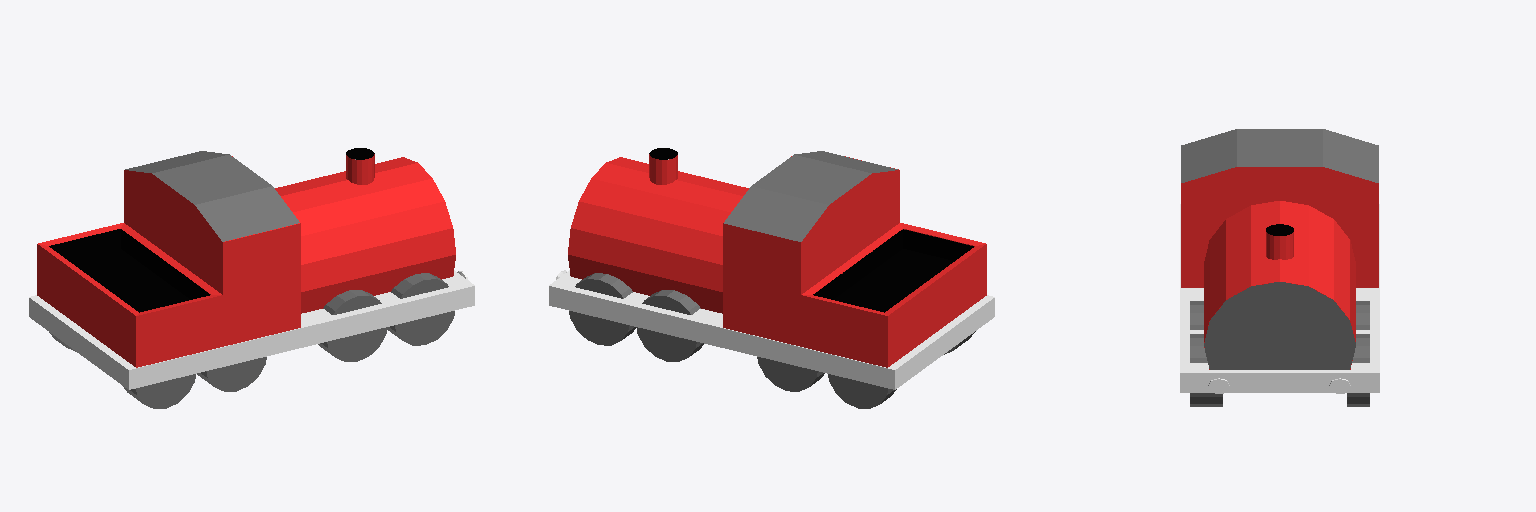
The picture shows the model from 3 angles: view 1: azimuth 30°, elevation 25°; view 2: azimuth 150°, elevation 25°; view 3: azimuth 270°, elevation 25°; orthographic projection.
Parts seen in each view (by area): view 1: cab, boiler, base, wheels, funnel; view 2: cab, boiler, base, wheels, funnel; view 3: boiler, cab, base, wheels, funnel.
Part boxes in pixels (x1,y1,x2,y2): cab: (37,151,300,367); boiler: (275,157,455,313); base: (29,270,474,389); wheels: (49,273,454,408); funnel: (346,148,374,184); cab: (723,151,986,367); boiler: (568,157,748,313); base: (549,270,994,389); wheels: (569,273,975,408); funnel: (649,148,677,184); boiler: (1204,201,1355,369); cab: (1181,129,1378,287); base: (1180,204,1379,393); wheels: (1190,301,1369,406); funnel: (1266,224,1293,259).
Bounding box in the file's own units: 4.09 × 1.92 × 2.
Materials: 5 (4 with a texture image).